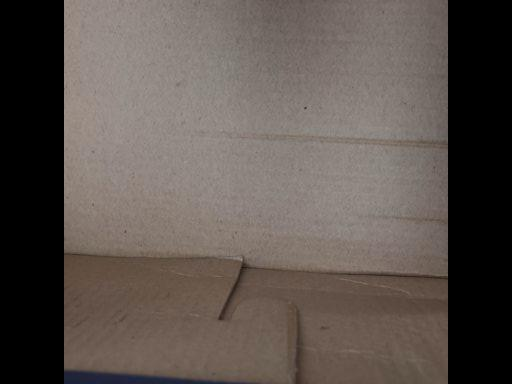cardboard: (74, 5, 446, 384)
